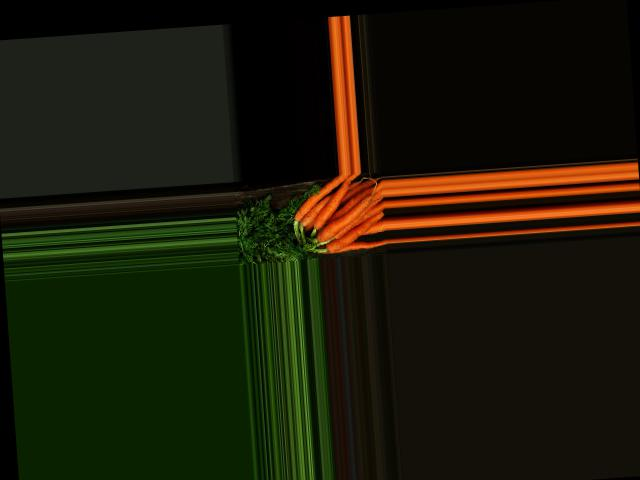carrot: (321, 209, 388, 254)
